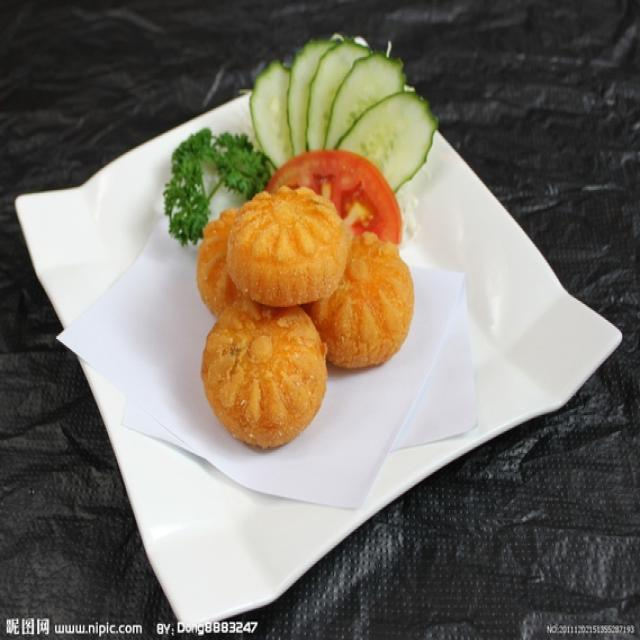炸货点心: (168, 156, 448, 456)
蛋糕甜品: (168, 156, 448, 456)
